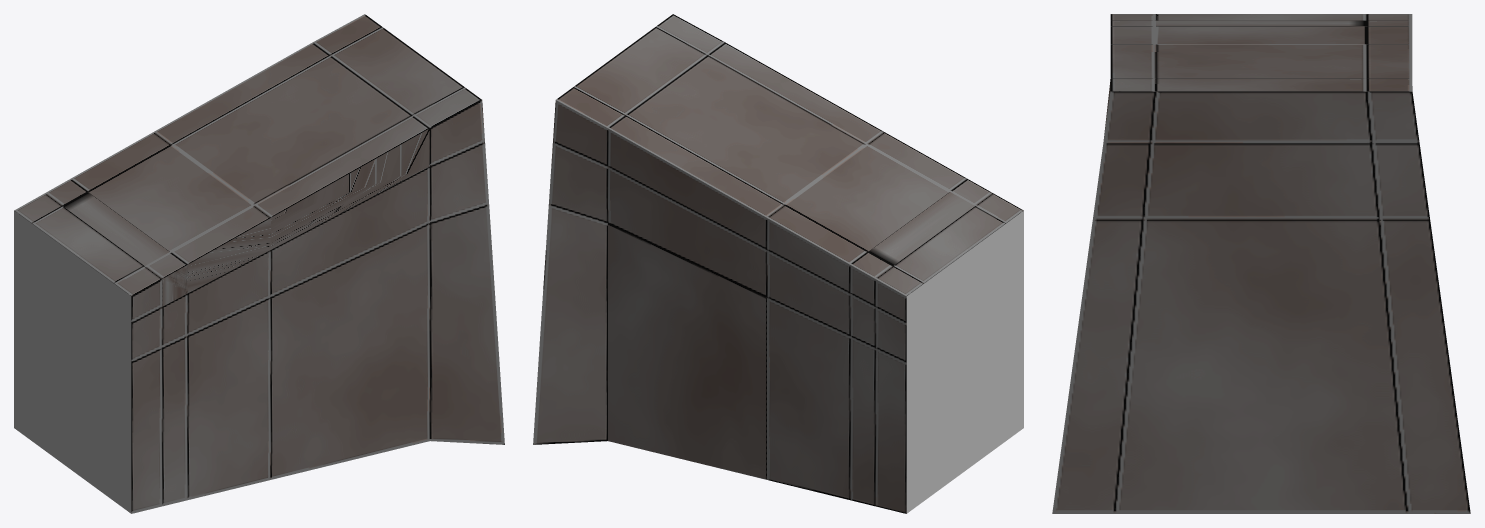
File: MilitaryMILState1.fbx
3 renders of one model, left to right at view 1: azimuth 30°, elevation 25°; view 2: azimuth 150°, elevation 25°; view 3: azimuth 270°, elevation 25°, orthographic. The views are drawn at different scales.
Visible parts, largest first — view 1: Cube_001; view 2: Cube_001; view 3: Cube_001.
Part boxes in pixels (left/top/right/bottom): Cube_001: left=14, top=14, right=504, bottom=513; Cube_001: left=533, top=14, right=1023, bottom=513; Cube_001: left=1052, top=14, right=1470, bottom=513.
Size of the model in its own units: 1.5 by 1.34 by 1.21.
